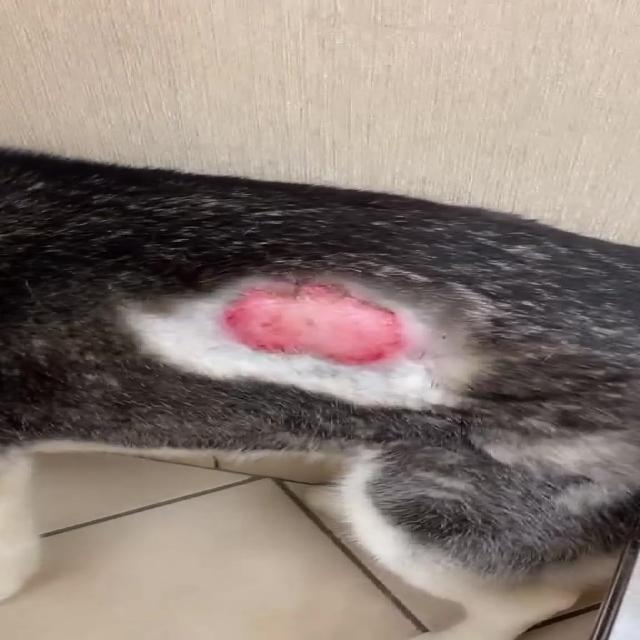hac lao: (122, 242, 486, 426)
